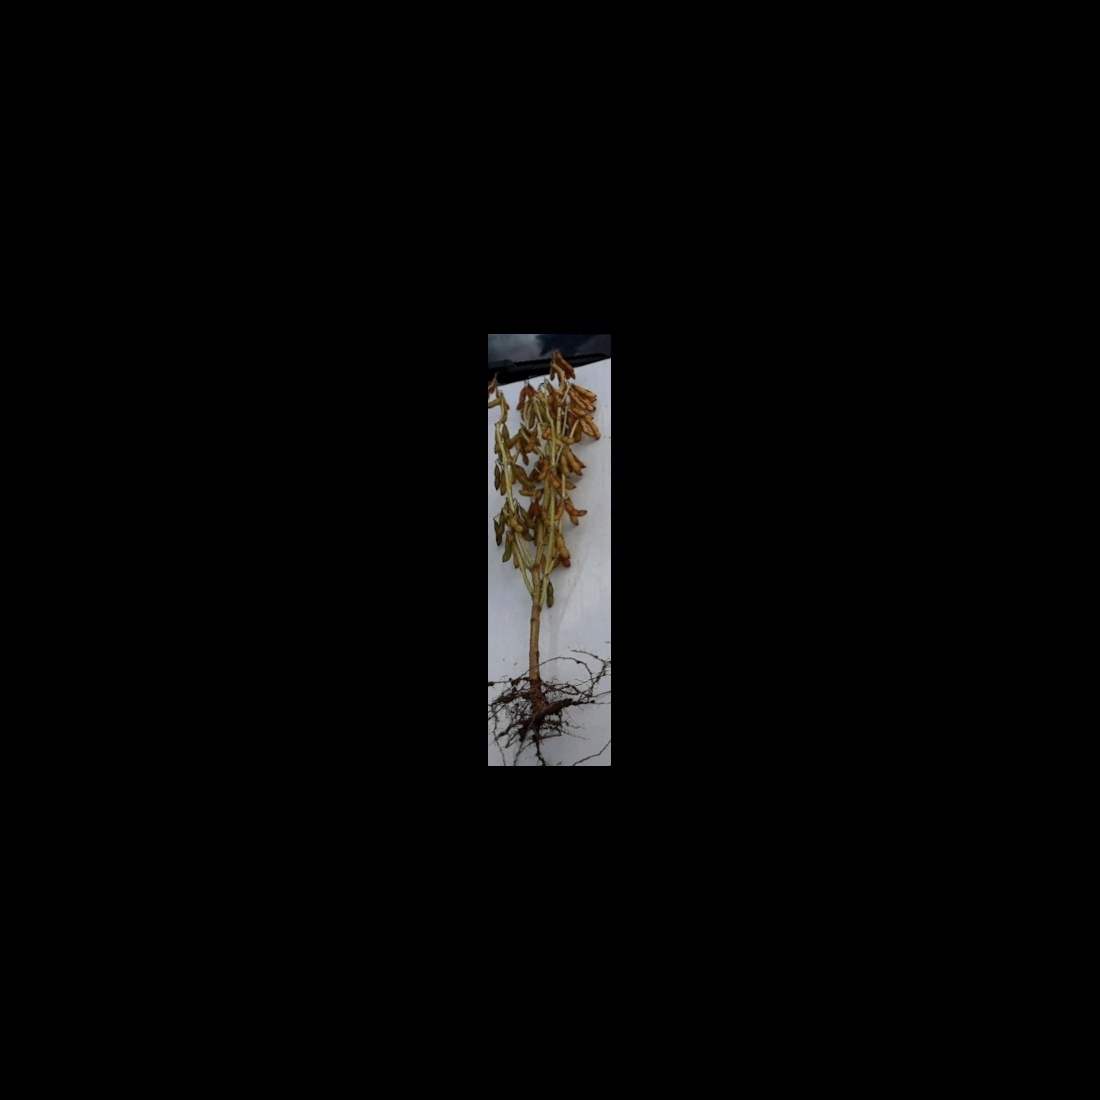pod: (509, 462, 538, 493), (564, 447, 585, 478), (553, 532, 569, 561), (583, 417, 601, 442), (568, 385, 598, 397), (563, 504, 590, 517), (506, 518, 524, 533), (547, 582, 555, 609)
soy: (491, 349, 606, 751)
